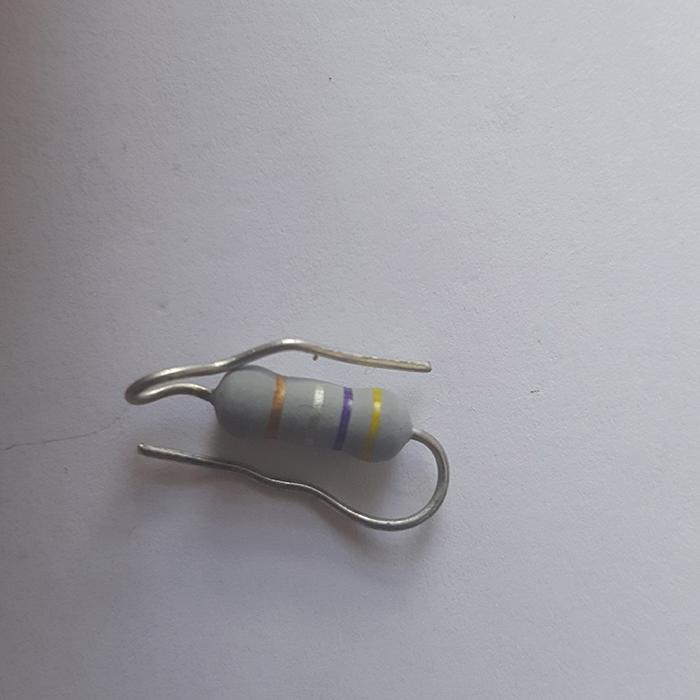resistor: (213, 367, 410, 463)
